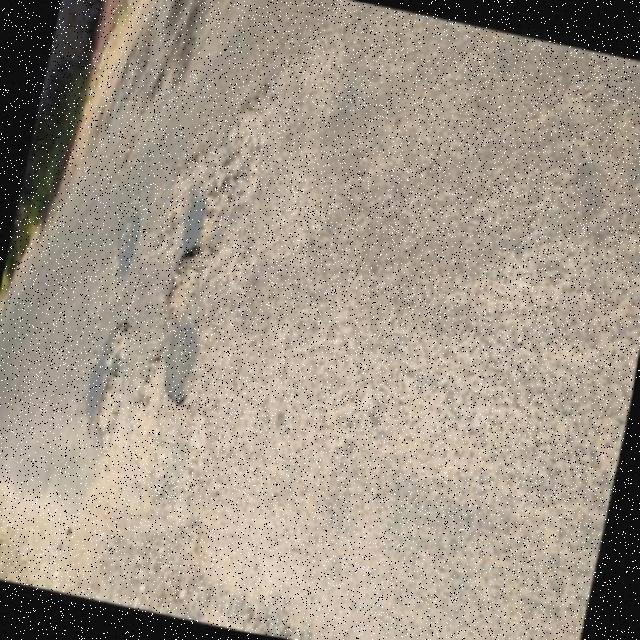Pothole: (190, 92, 281, 250), (139, 154, 205, 262), (95, 323, 135, 450), (169, 250, 210, 325)
